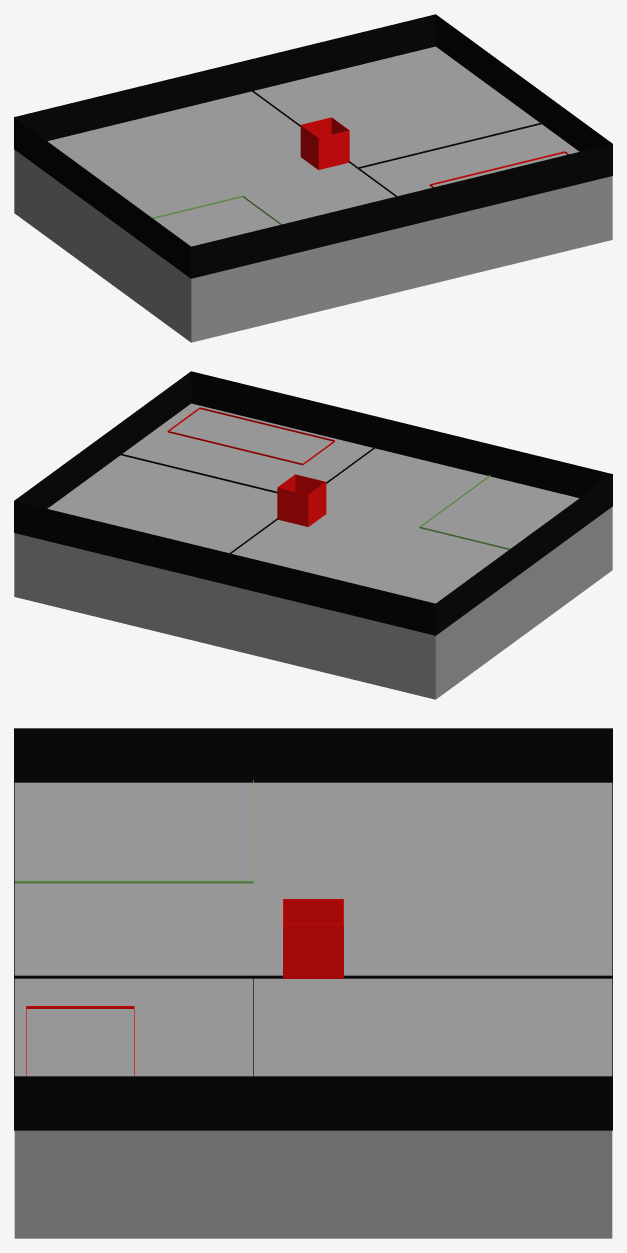
File: NASA_field.dae
3 renders of one model, top to bottom at view 1: azimuth 30°, elevation 25°; view 2: azimuth 150°, elevation 25°; view 3: azimuth 270°, elevation 25°, orthographic. The views are drawn at different scales.
Parts seen in each view (by area): view 1: 6615e2522483641d9ce27704 (×4); view 2: 6615e2522483641d9ce27704 (×5); view 3: 6615e2522483641d9ce27704 (×5).
Part boxes in pixels (x1,y1,x2,y2): 6615e2522483641d9ce27704 (×4): (14, 14, 612, 342); 6615e2522483641d9ce27704 (×5): (14, 371, 612, 699); 6615e2522483641d9ce27704 (×5): (14, 728, 612, 1238).
Bounding box in the file's own units: 6.89 × 5.01 × 1.5.
